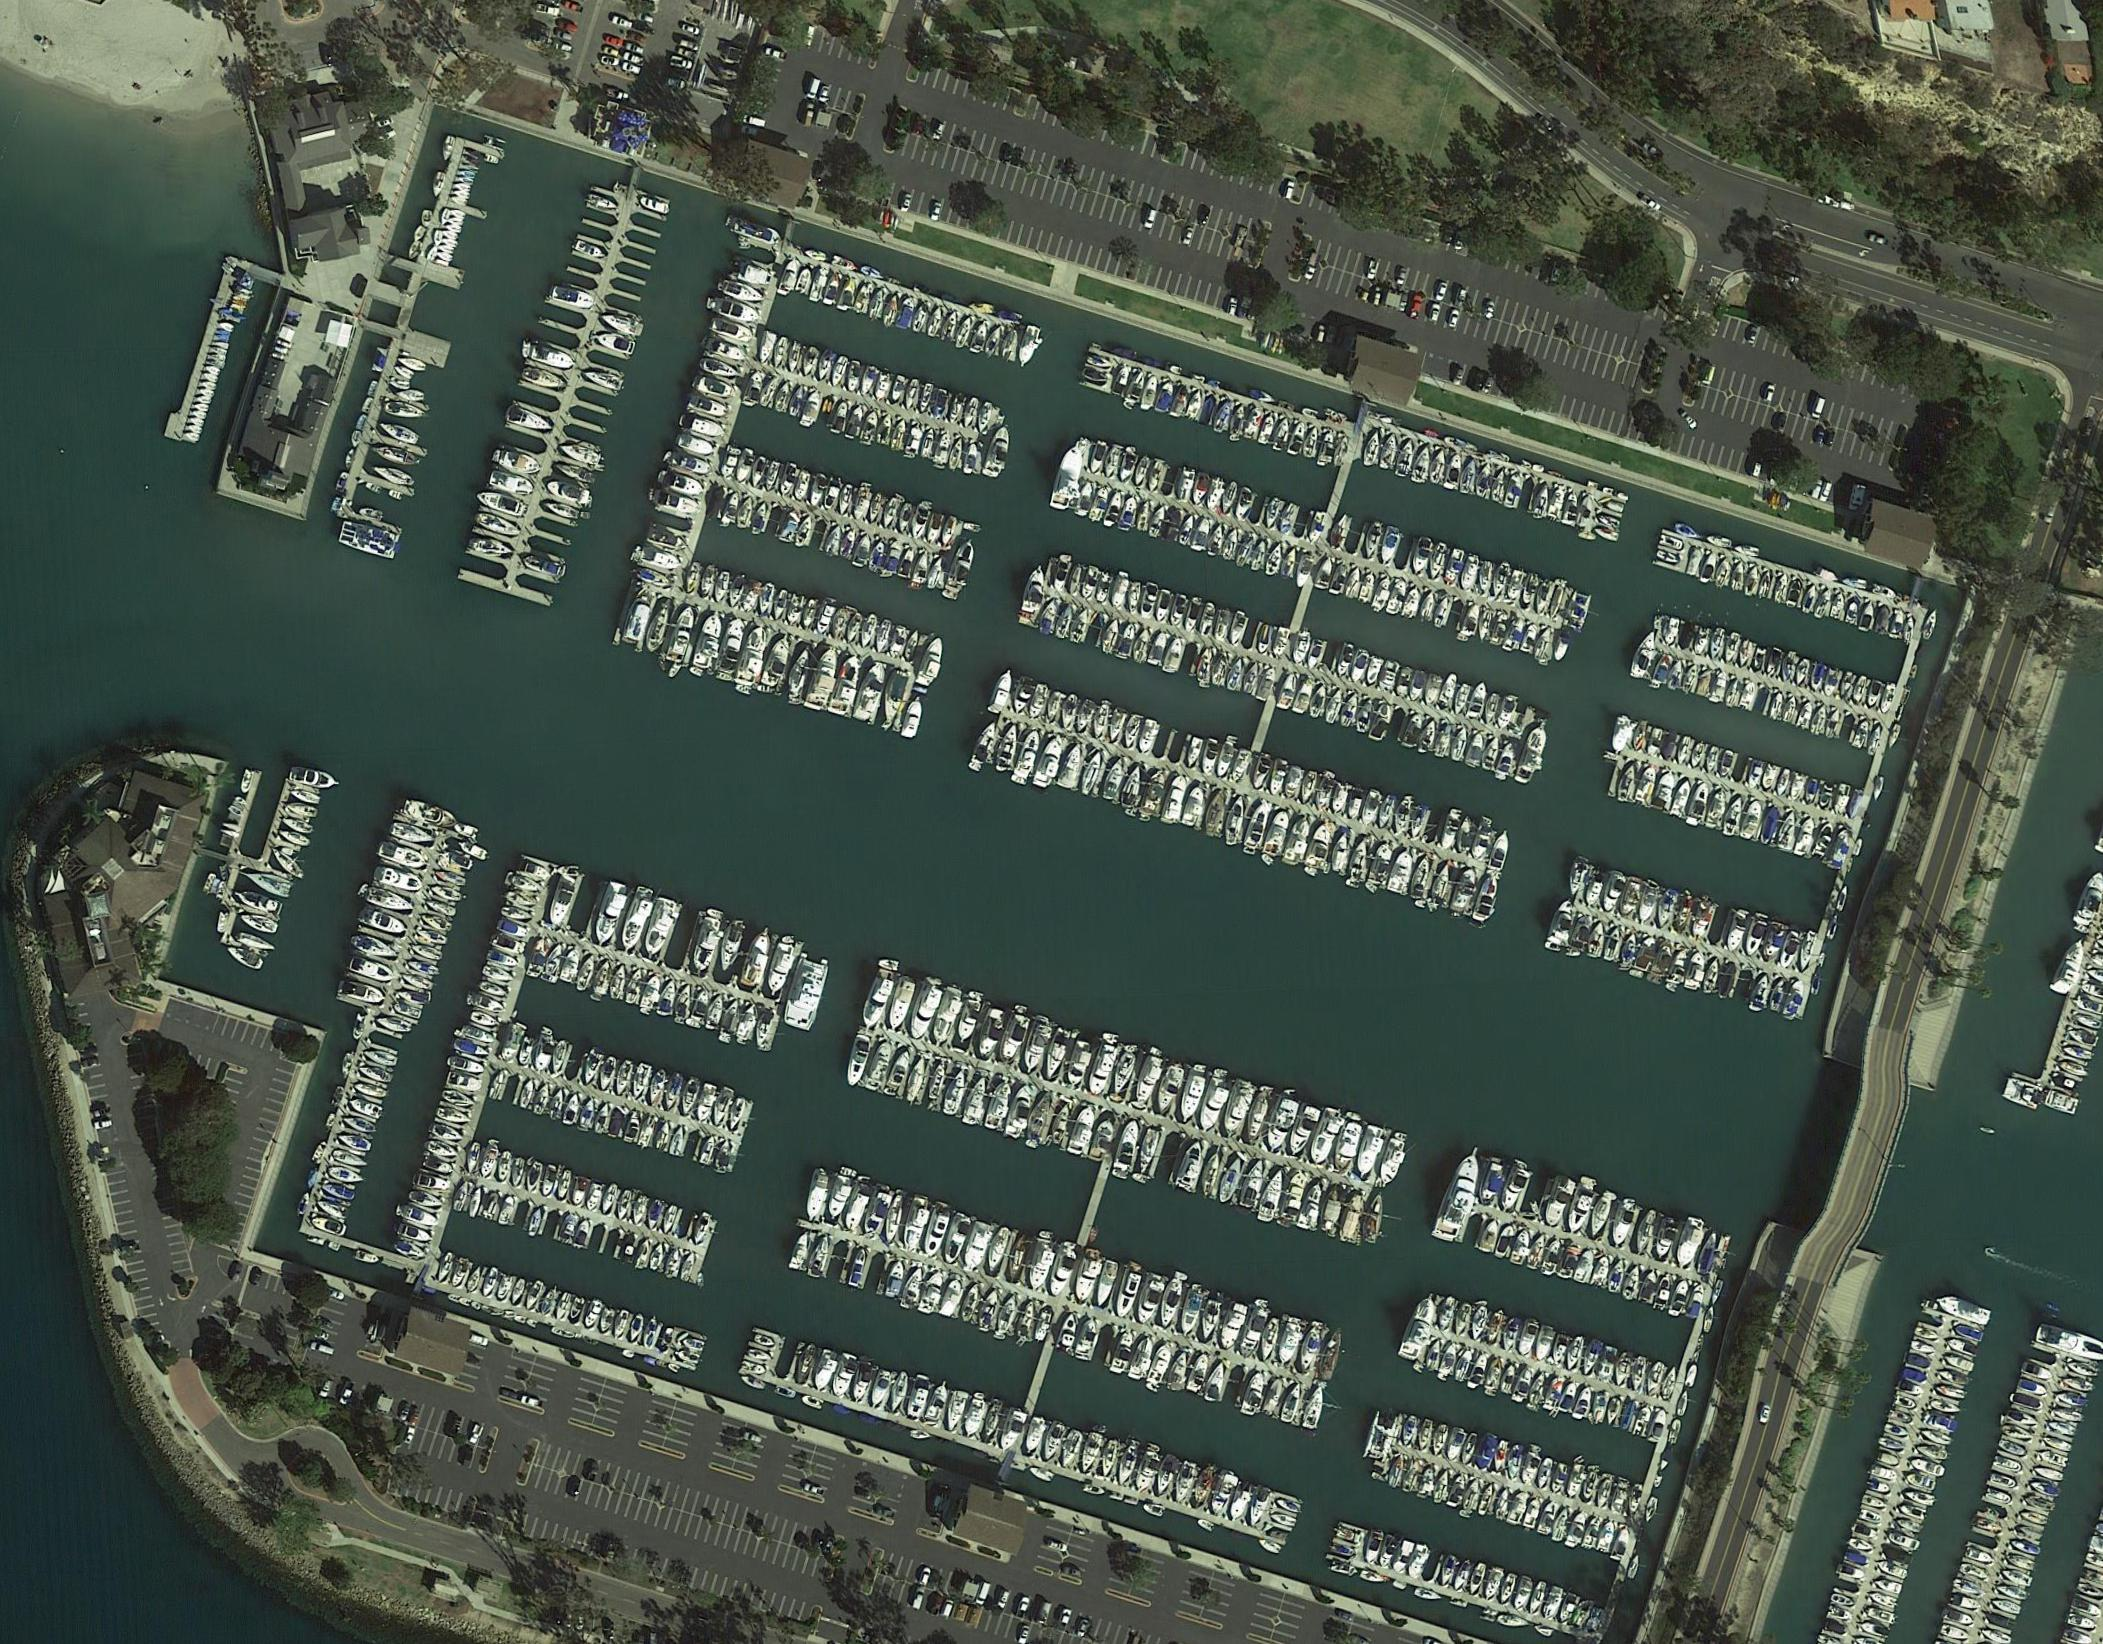harbor: (843, 968, 1408, 1250), (785, 1159, 1342, 1434), (971, 671, 1506, 922), (741, 1326, 1302, 1548), (1031, 557, 1550, 785), (1069, 440, 1576, 668), (456, 178, 679, 609), (266, 813, 480, 1239), (604, 229, 794, 659), (336, 137, 516, 536), (389, 855, 556, 1267), (1815, 1304, 1985, 1644), (526, 866, 807, 1052), (1937, 1335, 2101, 1644), (655, 562, 932, 736), (1453, 1152, 1733, 1323), (490, 1019, 756, 1176), (1412, 1296, 1680, 1448), (1374, 1408, 1639, 1562), (1560, 864, 1816, 1023), (708, 444, 970, 596), (744, 329, 1009, 476), (457, 1140, 720, 1287), (1606, 719, 1857, 867), (1325, 1519, 1605, 1644), (1079, 343, 1354, 469), (1640, 615, 1895, 749), (1355, 418, 1627, 545), (432, 1251, 707, 1373), (176, 756, 328, 961), (780, 246, 1028, 364), (1652, 529, 1912, 640), (162, 254, 283, 459)
ship: (126, 1053, 195, 1275), (1430, 1140, 1492, 1245), (778, 953, 831, 1033), (1396, 1292, 1441, 1362), (616, 886, 657, 954), (1050, 439, 1087, 512), (941, 536, 980, 603), (338, 521, 401, 562), (1514, 719, 1552, 787), (591, 879, 628, 947), (804, 645, 843, 710), (852, 661, 891, 726), (734, 623, 772, 690), (826, 654, 865, 717), (739, 924, 777, 988), (638, 900, 676, 961), (1360, 1408, 1401, 1465), (905, 983, 942, 1043), (1261, 1096, 1299, 1156), (1934, 1291, 1994, 1328), (2050, 937, 2088, 997), (714, 615, 749, 676), (1308, 1106, 1343, 1168), (1021, 1089, 1057, 1151), (913, 633, 951, 691), (857, 975, 894, 1033), (876, 668, 912, 727), (929, 987, 964, 1046), (1031, 732, 1067, 792), (691, 609, 725, 671), (1110, 1118, 1144, 1180), (760, 632, 795, 690), (1045, 1241, 1081, 1299), (1541, 896, 1577, 954), (403, 797, 463, 831), (1011, 727, 1045, 787), (982, 423, 1016, 481), (690, 917, 724, 975), (900, 1197, 934, 1255), (1070, 1248, 1104, 1306), (1255, 1168, 1289, 1226), (1151, 1062, 1186, 1116), (1142, 1340, 1178, 1395), (1328, 1120, 1364, 1175), (1285, 1105, 1321, 1159), (666, 604, 698, 664), (1021, 1014, 1053, 1074), (1277, 1169, 1309, 1229), (348, 930, 405, 965), (545, 872, 579, 929), (1238, 1304, 1272, 1361), (1673, 1216, 1707, 1272), (966, 719, 1000, 775), (1352, 1125, 1388, 1178), (727, 215, 785, 248), (1197, 1076, 1229, 1134), (1374, 1135, 1408, 1190), (1541, 1175, 1576, 1229), (1004, 1082, 1034, 1142), (714, 918, 746, 975), (1086, 1043, 1118, 1099), (884, 976, 917, 1033), (1241, 1089, 1273, 1146), (784, 644, 818, 697), (475, 487, 527, 521), (959, 1221, 993, 1274), (1065, 1105, 1099, 1157), (982, 1081, 1016, 1134), (1280, 814, 1314, 867), (990, 722, 1024, 775), (1999, 1074, 2047, 1111), (1316, 1325, 1347, 1383), (364, 884, 418, 917), (763, 942, 795, 997), (1133, 1274, 1166, 1328), (842, 1035, 874, 1089), (1159, 773, 1191, 828), (242, 866, 294, 900), (1026, 1239, 1057, 1296), (621, 592, 654, 645), (642, 603, 674, 656), (521, 364, 574, 396), (377, 840, 430, 872), (232, 886, 285, 918), (347, 954, 399, 987), (999, 1012, 1031, 1065), (975, 1007, 1007, 1060), (941, 1214, 973, 1267), (1174, 1139, 1207, 1192), (1111, 1268, 1144, 1321), (862, 1040, 894, 1093), (959, 1076, 992, 1128), (268, 843, 309, 884), (1041, 1028, 1072, 1082), (1156, 1275, 1186, 1330), (1220, 794, 1251, 848), (505, 405, 556, 437), (1132, 1055, 1164, 1106), (1217, 1301, 1250, 1352), (712, 295, 765, 326), (374, 866, 427, 896), (922, 1207, 952, 1260), (860, 1185, 891, 1238), (842, 1181, 872, 1234), (1628, 628, 1659, 681), (358, 907, 410, 937), (1209, 1468, 1239, 1519), (1220, 1082, 1251, 1134), (982, 1224, 1012, 1275), (1176, 1287, 1207, 1338), (1238, 1157, 1268, 1209), (883, 1048, 913, 1099), (1261, 807, 1292, 859), (802, 1168, 830, 1224), (1178, 1070, 1207, 1123), (1338, 1192, 1367, 1245), (1318, 1181, 1347, 1234), (917, 1268, 947, 1318), (1091, 1260, 1121, 1309), (1215, 1156, 1246, 1205), (1630, 1207, 1661, 1256), (1564, 1186, 1594, 1236), (1057, 741, 1087, 790), (1497, 1168, 1529, 1214), (1004, 1233, 1033, 1284), (497, 449, 545, 480), (545, 476, 592, 507), (1110, 1050, 1140, 1098), (898, 1265, 929, 1313), (1087, 1116, 1118, 1164), (987, 668, 1017, 715), (1448, 866, 1478, 913), (1243, 801, 1273, 848), (1360, 1192, 1388, 1245), (1560, 589, 1593, 633), (529, 345, 579, 374), (488, 469, 538, 498), (389, 819, 439, 848), (475, 510, 524, 539), (1296, 1325, 1325, 1374), (1277, 1316, 1306, 1366), (1127, 1333, 1156, 1383), (1108, 1328, 1137, 1378), (1297, 1181, 1326, 1231), (941, 1069, 970, 1118), (1471, 874, 1500, 924), (1203, 785, 1232, 835), (1304, 819, 1333, 869), (599, 309, 645, 340), (1190, 1461, 1220, 1507), (1475, 1163, 1506, 1209), (288, 767, 343, 792), (1021, 563, 1048, 615), (679, 411, 727, 440), (720, 278, 768, 307), (1301, 1385, 1330, 1432), (1255, 1316, 1284, 1364), (715, 997, 744, 1045), (1065, 1040, 1094, 1087), (954, 999, 983, 1046), (824, 1175, 853, 1222), (806, 1233, 835, 1280), (1606, 1202, 1635, 1250), (1586, 1195, 1615, 1243), (1140, 767, 1169, 814), (1388, 847, 1417, 895), (224, 942, 266, 975), (592, 328, 637, 359), (377, 417, 422, 447), (1685, 780, 1712, 830), (923, 1378, 952, 1424), (905, 1374, 934, 1420), (830, 1352, 859, 1398), (1244, 1484, 1273, 1530), (1169, 1460, 1198, 1506), (1132, 1449, 1161, 1495), (975, 1285, 1004, 1332), (498, 1019, 527, 1065), (1367, 840, 1396, 886), (558, 439, 601, 469), (881, 1193, 906, 1245), (1239, 1371, 1267, 1419), (1197, 1151, 1224, 1198), (1079, 749, 1106, 797), (1118, 765, 1145, 813), (640, 545, 684, 574), (457, 1342, 486, 1386), (999, 1410, 1028, 1455), (1164, 1350, 1193, 1395), (1760, 920, 1789, 965), (900, 695, 927, 741), (522, 553, 568, 580), (1152, 1453, 1180, 1499), (1077, 1431, 1104, 1477), (1040, 1419, 1067, 1465), (993, 1291, 1021, 1337), (1487, 826, 1514, 872), (582, 365, 625, 394), (529, 1031, 558, 1074), (1226, 1482, 1255, 1524), (654, 490, 702, 516), (341, 980, 389, 1006), (1016, 323, 1041, 370), (1135, 1128, 1161, 1176), (1695, 1231, 1721, 1279), (710, 318, 754, 345), (372, 463, 417, 490), (1279, 1379, 1306, 1424), (813, 1349, 840, 1393), (1113, 1444, 1140, 1489), (526, 936, 553, 980), (1203, 1359, 1231, 1403), (1197, 1299, 1224, 1344), (1524, 1369, 1552, 1414), (1722, 912, 1750, 956), (1613, 761, 1640, 806), (539, 942, 568, 983), (2042, 1087, 2083, 1116), (551, 287, 597, 312), (374, 442, 420, 468), (1074, 1316, 1099, 1362), (1101, 756, 1127, 802), (1408, 854, 1434, 900), (1738, 797, 1763, 843), (671, 451, 714, 478), (551, 459, 594, 487), (708, 1086, 736, 1128), (942, 1391, 970, 1434), (790, 1344, 818, 1386), (1058, 1429, 1086, 1472), (1185, 1352, 1212, 1395), (1652, 1217, 1680, 1260), (1746, 973, 1774, 1016), (1599, 871, 1627, 913), (1367, 700, 1395, 743), (698, 357, 743, 382), (647, 528, 691, 553), (1181, 784, 1207, 828), (1470, 819, 1495, 864), (1651, 768, 1676, 813), (707, 336, 748, 364), (1413, 717, 1441, 758), (939, 1279, 966, 1320), (1053, 1311, 1081, 1352), (1009, 674, 1036, 715), (1473, 1431, 1500, 1472), (888, 1369, 912, 1415), (905, 1057, 929, 1103), (688, 394, 731, 420), (799, 388, 824, 430), (678, 1076, 703, 1118), (398, 1204, 440, 1229), (1540, 1238, 1565, 1280), (1618, 876, 1644, 918), (1782, 976, 1808, 1019), (1721, 796, 1746, 838), (1704, 789, 1729, 831), (1828, 828, 1854, 871), (669, 473, 708, 500), (1425, 447, 1453, 487), (1065, 606, 1092, 645), (696, 376, 737, 401), (813, 596, 838, 637), (239, 912, 280, 937), (237, 930, 278, 956), (1226, 403, 1251, 444), (869, 1367, 894, 1408), (963, 1398, 988, 1439), (574, 953, 599, 994), (1436, 1342, 1461, 1383), (1465, 1352, 1490, 1393), (1635, 884, 1661, 925), (1565, 855, 1591, 896), (1429, 862, 1454, 903), (1775, 809, 1801, 850), (1664, 949, 1692, 987), (1796, 929, 1818, 975), (1494, 739, 1518, 782), (662, 1070, 686, 1113), (655, 976, 679, 1019), (638, 973, 662, 1016), (958, 1282, 982, 1325), (1277, 671, 1301, 714), (1412, 442, 1436, 485), (1565, 1509, 1589, 1552), (1794, 816, 1818, 859), (741, 370, 766, 410), (1014, 1299, 1040, 1338), (1290, 678, 1316, 717), (1579, 1338, 1605, 1378), (1620, 1263, 1646, 1303), (1507, 1227, 1533, 1267), (1524, 1233, 1550, 1272), (1410, 536, 1436, 575), (1441, 452, 1466, 492), (1456, 458, 1482, 497), (1651, 939, 1676, 978), (1743, 918, 1768, 958), (1634, 934, 1659, 973), (1634, 765, 1659, 804), (1466, 679, 1490, 720), (777, 258, 801, 299), (695, 1082, 719, 1123), (645, 1065, 669, 1106), (630, 1062, 654, 1103), (1022, 1415, 1046, 1456), (673, 982, 696, 1023), (446, 1070, 486, 1094), (789, 1231, 813, 1272), (1050, 1105, 1074, 1146), (1323, 686, 1347, 727), (1668, 1279, 1692, 1320), (1482, 1357, 1506, 1398), (1488, 558, 1512, 599), (1395, 439, 1419, 480), (1654, 889, 1678, 930), (1685, 951, 1709, 992), (1779, 930, 1803, 971), (1378, 526, 1401, 567), (1360, 521, 1384, 562), (678, 434, 717, 458), (637, 567, 676, 591), (855, 611, 879, 650), (1087, 485, 1111, 524), (1401, 710, 1425, 749), (732, 446, 756, 485), (1261, 1378, 1285, 1417), (580, 1048, 604, 1087), (982, 1402, 1005, 1441), (736, 1002, 760, 1041), (440, 1087, 480, 1111), (422, 1137, 461, 1161), (408, 1188, 447, 1212), (328, 1164, 367, 1188), (331, 1147, 370, 1171), (435, 1105, 475, 1128), (1518, 1318, 1541, 1357), (1533, 1325, 1557, 1364), (1511, 1364, 1535, 1403), (1494, 1222, 1518, 1262), (1500, 616, 1524, 656), (1425, 541, 1449, 580), (1690, 901, 1714, 941), (1569, 913, 1593, 953), (1115, 621, 1139, 661), (1099, 616, 1123, 656), (1038, 598, 1062, 637), (1359, 787, 1383, 826), (1669, 778, 1693, 818), (756, 374, 782, 410), (348, 1096, 384, 1122), (558, 947, 584, 983), (1574, 1248, 1599, 1284), (1459, 1477, 1485, 1513), (471, 538, 516, 558), (597, 1053, 620, 1094), (850, 1362, 872, 1403), (1098, 1439, 1120, 1480), (1362, 428, 1384, 469), (1389, 794, 1412, 835), (1758, 806, 1780, 847), (883, 538, 906, 575), (362, 1046, 399, 1070), (543, 498, 580, 522), (1480, 734, 1504, 772), (1137, 584, 1161, 621), (732, 495, 756, 533), (968, 319, 992, 357), (336, 1132, 374, 1156), (703, 994, 727, 1031), (430, 1122, 468, 1146), (311, 1214, 348, 1238), (1910, 1456, 1948, 1480), (1644, 1359, 1668, 1396), (1478, 1217, 1502, 1255), (1531, 625, 1555, 662), (1458, 555, 1482, 592), (1471, 463, 1495, 500), (1371, 575, 1395, 613), (1326, 512, 1350, 550), (1586, 920, 1610, 958), (1074, 698, 1098, 736), (1255, 666, 1279, 703), (1053, 603, 1077, 640), (1453, 816, 1477, 854), (1313, 775, 1337, 813), (1716, 963, 1739, 1000), (1541, 1584, 1565, 1622), (1407, 1543, 1430, 1581), (1391, 1538, 1415, 1576), (1400, 1458, 1424, 1495), (1384, 1453, 1408, 1490), (1429, 1468, 1453, 1506), (1550, 1506, 1574, 1543), (1232, 534, 1258, 568), (1123, 370, 1149, 405), (848, 1246, 869, 1289), (872, 616, 894, 656), (1051, 555, 1074, 594), (932, 430, 954, 469), (807, 266, 830, 306), (725, 1094, 748, 1134), (613, 1058, 635, 1098), (452, 1038, 492, 1060), (884, 1260, 906, 1299), (1564, 1333, 1586, 1373), (1606, 1256, 1628, 1296), (1028, 683, 1050, 722), (1439, 813, 1461, 852), (1504, 1443, 1526, 1482), (1565, 1461, 1587, 1501), (1536, 1497, 1558, 1536), (1610, 717, 1632, 756), (1813, 819, 1835, 859), (277, 826, 312, 850), (823, 522, 847, 558), (778, 509, 802, 545), (1338, 691, 1362, 727), (1210, 399, 1234, 435), (754, 329, 778, 365), (836, 277, 860, 312), (690, 1210, 714, 1246), (597, 1181, 621, 1217), (492, 934, 527, 958), (591, 959, 615, 995), (1506, 1490, 1529, 1526), (446, 1055, 486, 1076), (927, 1060, 947, 1101), (925, 555, 947, 592), (794, 512, 816, 550), (1116, 495, 1139, 533), (1205, 522, 1227, 560), (1263, 541, 1285, 579), (1292, 553, 1314, 591), (1316, 430, 1338, 468), (1449, 726, 1471, 763), (1079, 563, 1101, 601), (1290, 630, 1313, 668), (859, 410, 881, 447), (714, 1137, 736, 1175), (623, 968, 645, 1006), (608, 963, 630, 1000), (398, 1222, 435, 1245), (393, 1239, 430, 1262), (1308, 683, 1330, 720), (1483, 1311, 1506, 1349), (1500, 1316, 1523, 1354), (1652, 1274, 1675, 1311), (1639, 1267, 1661, 1304), (1611, 1350, 1634, 1388), (1572, 1385, 1594, 1422), (1659, 1364, 1681, 1402), (1632, 1403, 1654, 1441), (1442, 550, 1465, 587), (1378, 434, 1400, 471), (1700, 958, 1722, 995), (1386, 579, 1408, 616), (1328, 560, 1350, 598), (1601, 925, 1623, 963), (749, 500, 772, 538), (1057, 693, 1079, 731), (1089, 702, 1111, 739), (1162, 637, 1185, 674), (1198, 739, 1220, 777), (1610, 1524, 1632, 1562), (1589, 1255, 1615, 1287), (865, 539, 889, 574), (1145, 505, 1169, 539), (1306, 510, 1330, 545), (1154, 381, 1178, 415), (1915, 1441, 1949, 1465), (1453, 1349, 1477, 1383), (2055, 1388, 2089, 1412), (2065, 1357, 2100, 1381), (1459, 603, 1483, 637), (1529, 487, 1553, 521), (1449, 681, 1473, 715), (2057, 1057, 2091, 1081), (1446, 1473, 1470, 1507), (1103, 490, 1123, 529), (1139, 374, 1159, 413), (741, 579, 763, 615), (725, 575, 748, 611), (696, 563, 719, 599), (852, 533, 874, 568), (828, 604, 850, 640), (901, 627, 923, 662), (341, 1113, 377, 1135), (358, 1064, 394, 1086), (399, 970, 435, 992), (1087, 440, 1110, 476), (1074, 481, 1096, 517), (1285, 422, 1308, 458), (1232, 487, 1255, 522), (1437, 669, 1459, 705), (1465, 732, 1487, 768), (1432, 724, 1454, 760), (1355, 698, 1378, 734), (1349, 649, 1371, 685), (1110, 574, 1132, 609), (1168, 592, 1190, 628), (1227, 611, 1250, 647), (1333, 642, 1355, 678), (785, 382, 807, 418), (830, 399, 852, 435), (843, 405, 865, 440), (807, 473, 830, 509), (952, 316, 975, 352), (522, 1159, 545, 1195), (435, 1250, 457, 1285), (604, 1105, 626, 1140), (531, 1082, 553, 1118), (690, 988, 712, 1024), (319, 1181, 355, 1204), (495, 918, 531, 941), (486, 949, 522, 971), (481, 965, 517, 987), (471, 994, 507, 1016), (463, 1024, 498, 1046), (1929, 1396, 1965, 1419), (1436, 1296, 1458, 1332), (1647, 1408, 1669, 1444), (1488, 611, 1511, 647), (1488, 468, 1511, 504), (1618, 930, 1640, 966), (1137, 719, 1159, 755), (1210, 650, 1232, 686), (1147, 632, 1169, 668), (1132, 627, 1154, 662), (1250, 755, 1272, 790), (1267, 761, 1289, 797), (1297, 770, 1319, 806), (1483, 1565, 1506, 1601), (1466, 1560, 1488, 1596), (1429, 1424, 1451, 1460), (1444, 1427, 1466, 1463), (1362, 1530, 1384, 1565), (1490, 1485, 1512, 1521), (1705, 627, 1727, 662), (457, 838, 488, 864), (720, 492, 744, 524), (2001, 1565, 2033, 1589), (1378, 659, 1401, 691), (376, 1014, 413, 1035), (386, 401, 427, 420), (1183, 596, 1203, 633), (550, 1038, 570, 1076), (753, 1011, 773, 1048), (1453, 1301, 1473, 1338), (1470, 1304, 1490, 1342), (1685, 1282, 1705, 1320), (1543, 1374, 1564, 1412), (1560, 490, 1581, 528), (1673, 896, 1693, 934), (1376, 794, 1396, 831), (1528, 1579, 1548, 1617), (1417, 1465, 1437, 1502), (1709, 669, 1729, 707), (574, 239, 608, 261), (638, 195, 673, 217), (434, 867, 468, 889), (280, 814, 314, 837), (420, 912, 454, 934), (410, 942, 444, 965), (1191, 517, 1214, 551), (1101, 446, 1123, 480), (1116, 451, 1139, 485), (1261, 497, 1284, 531), (1203, 478, 1226, 512), (1174, 466, 1197, 500), (1495, 697, 1518, 731), (1407, 669, 1429, 703), (1169, 386, 1191, 420), (719, 446, 741, 480), (896, 295, 918, 329), (939, 309, 961, 343), (662, 1246, 684, 1280), (609, 1308, 632, 1342), (451, 1180, 473, 1214), (621, 1111, 644, 1146), (478, 1146, 500, 1180), (463, 1140, 485, 1175), (1920, 1425, 1954, 1448), (1888, 1531, 1922, 1554), (2001, 1422, 2035, 1444), (1596, 1345, 1618, 1379), (1557, 1379, 1579, 1414), (1506, 568, 1528, 603), (1314, 557, 1337, 591), (1226, 657, 1248, 691), (1229, 749, 1251, 784), (1437, 1554, 1459, 1588), (1453, 1559, 1475, 1593), (1519, 1453, 1541, 1487), (1535, 1456, 1557, 1490), (888, 625, 908, 661), (712, 568, 732, 604), (683, 560, 703, 596), (912, 550, 932, 586), (1272, 417, 1292, 452), (1301, 425, 1321, 461), (1219, 480, 1239, 516), (1422, 673, 1442, 708), (1152, 587, 1173, 623), (905, 422, 925, 458), (975, 399, 995, 435), (959, 394, 980, 430), (910, 505, 930, 541), (925, 304, 946, 340), (637, 1115, 657, 1151), (562, 1093, 582, 1128), (417, 1173, 452, 1193), (505, 889, 541, 910), (1033, 1308, 1053, 1344), (1628, 1355, 1649, 1391), (1582, 877, 1606, 908), (778, 463, 799, 498), (1215, 743, 1236, 778), (1408, 804, 1429, 840), (1514, 1576, 1535, 1612), (1349, 840, 1366, 883), (430, 883, 463, 905), (442, 850, 475, 872), (983, 324, 1005, 357), (582, 1297, 604, 1330), (480, 1267, 502, 1299), (316, 1198, 348, 1221), (1905, 1472, 1937, 1494), (1997, 1437, 2030, 1460), (1424, 1338, 1446, 1371), (2038, 1448, 2071, 1470), (1994, 1581, 2026, 1603), (1990, 1596, 2023, 1618), (2052, 1403, 2084, 1425), (1430, 596, 1453, 628), (1401, 586, 1424, 618), (1342, 567, 1364, 599), (2067, 1026, 2100, 1048), (1664, 661, 1686, 693), (1850, 719, 1873, 751), (585, 193, 620, 213), (785, 592, 806, 627), (843, 611, 864, 645), (1220, 528, 1241, 562), (1243, 406, 1263, 440), (1256, 413, 1277, 447), (1277, 502, 1297, 536), (1065, 565, 1086, 599), (1198, 603, 1219, 637), (889, 417, 910, 451), (901, 377, 922, 411), (773, 381, 794, 415), (939, 516, 959, 550), (881, 295, 901, 329), (633, 1238, 654, 1272), (555, 1168, 575, 1202), (524, 1279, 545, 1313), (698, 1134, 719, 1168), (517, 1077, 538, 1111), (422, 1156, 456, 1176), (1924, 1412, 1958, 1432), (2007, 1408, 2042, 1429), (2009, 1391, 2043, 1412), (2021, 1362, 2055, 1383), (1499, 1362, 1519, 1396), (1547, 487, 1567, 521), (1106, 708, 1127, 743), (1121, 715, 1142, 749), (749, 456, 770, 490), (1241, 661, 1261, 695), (876, 411, 896, 446), (1331, 831, 1349, 872), (1282, 767, 1302, 801), (1857, 599, 1878, 633), (1920, 608, 1941, 642), (1415, 1419, 1436, 1453), (1400, 1414, 1420, 1448), (1550, 1461, 1570, 1495), (1594, 1477, 1615, 1511), (1378, 1535, 1398, 1569), (1523, 1495, 1543, 1530), (1698, 551, 1719, 586), (1878, 681, 1898, 715), (1722, 632, 1743, 666), (1176, 516, 1198, 546), (1110, 365, 1132, 396), (556, 1214, 579, 1245), (1878, 1559, 1908, 1581), (2030, 1477, 2060, 1499), (1652, 654, 1675, 685), (1482, 691, 1500, 727), (947, 437, 966, 473), (823, 271, 842, 307), (645, 1197, 664, 1233), (548, 1087, 567, 1123), (510, 876, 546, 895), (1504, 473, 1523, 509), (1768, 976, 1787, 1012), (1459, 1431, 1478, 1466), (1477, 1482, 1495, 1518), (1197, 649, 1214, 688), (896, 546, 917, 579), (425, 898, 457, 918), (290, 787, 323, 807), (1280, 546, 1301, 579), (1272, 627, 1292, 659), (792, 469, 813, 502), (799, 345, 819, 377), (853, 282, 874, 314), (572, 1217, 592, 1250), (647, 1241, 667, 1274), (678, 1251, 698, 1284), (630, 1193, 650, 1226), (626, 1311, 647, 1344), (654, 1120, 674, 1152), (592, 1103, 613, 1135), (516, 1035, 536, 1067), (478, 980, 510, 1000), (1903, 1487, 1936, 1507), (1946, 1337, 1978, 1357), (2033, 1465, 2065, 1485), (2023, 1492, 2055, 1513), (2004, 1552, 2036, 1572), (2062, 1374, 2094, 1395), (1552, 630, 1572, 662), (1531, 584, 1552, 616), (1359, 572, 1379, 604), (1043, 691, 1063, 724), (930, 388, 951, 420), (2062, 1043, 2094, 1064), (1490, 1441, 1511, 1473), (1610, 1482, 1630, 1514), (1596, 1521, 1617, 1554), (1646, 727, 1666, 760), (1630, 719, 1651, 751), (1832, 784, 1852, 816), (1809, 702, 1830, 734), (481, 1192, 504, 1221), (1745, 760, 1767, 789), (772, 587, 790, 621), (285, 801, 319, 819), (1250, 539, 1268, 574), (763, 459, 782, 493), (881, 497, 900, 531), (830, 355, 848, 389), (772, 336, 790, 370), (999, 328, 1017, 362), (912, 300, 930, 335), (539, 1164, 558, 1198), (667, 1123, 686, 1157), (469, 1011, 504, 1029), (1475, 609, 1494, 644), (1547, 586, 1565, 620), (1419, 591, 1437, 625), (1185, 736, 1203, 770), (836, 483, 855, 517), (852, 487, 871, 521), (1627, 1482, 1646, 1516), (1813, 587, 1832, 621), (1582, 1514, 1601, 1548), (1780, 649, 1799, 683), (1866, 724, 1885, 758), (393, 1000, 423, 1021), (838, 528, 859, 558), (1185, 389, 1205, 420), (867, 289, 888, 319), (553, 1291, 574, 1321), (579, 1098, 599, 1128), (1960, 1562, 1990, 1583), (1866, 1605, 1896, 1625), (1966, 1547, 1997, 1567), (1618, 1400, 1639, 1431), (2043, 1434, 2074, 1455), (1765, 647, 1786, 678), (1330, 784, 1350, 814), (2072, 1012, 2103, 1033), (1799, 584, 1820, 615), (1722, 679, 1743, 710), (644, 1315, 661, 1350), (1743, 563, 1760, 599), (417, 927, 449, 946), (1306, 638, 1325, 671), (947, 394, 966, 427), (823, 478, 842, 510), (925, 512, 944, 545), (859, 365, 877, 398), (661, 1204, 679, 1236), (615, 1188, 633, 1221), (585, 1181, 604, 1214), (526, 1207, 545, 1239), (451, 1256, 469, 1289), (488, 1070, 507, 1103), (1953, 1577, 1985, 1596), (1941, 1624, 1973, 1642), (1326, 1559, 1359, 1577), (1477, 560, 1495, 592), (917, 382, 935, 415), (1558, 1593, 1577, 1625), (1499, 1572, 1518, 1605), (1675, 734, 1693, 767), (872, 372, 893, 401), (1954, 1323, 1984, 1344), (1946, 1608, 1975, 1629), (1519, 625, 1540, 654), (1792, 657, 1813, 686), (353, 1082, 387, 1099), (963, 442, 980, 476), (867, 492, 884, 526), (896, 500, 913, 534), (468, 1186, 485, 1221), (500, 907, 534, 924), (1497, 1613, 1531, 1630), (1714, 557, 1731, 591), (1681, 662, 1698, 697), (1825, 707, 1842, 741), (801, 599, 819, 630), (1132, 456, 1151, 487), (1395, 668, 1413, 698), (1094, 574, 1113, 604), (1214, 611, 1232, 642), (1198, 396, 1217, 427), (814, 352, 833, 382), (1248, 388, 1279, 406), (539, 1287, 558, 1318), (1268, 1511, 1299, 1530), (524, 864, 555, 883), (1936, 1383, 1966, 1402), (1937, 1367, 1968, 1386), (1994, 1456, 2024, 1475), (2018, 1379, 2048, 1398), (1944, 1354, 1975, 1373), (1876, 1436, 1907, 1455), (1605, 1396, 1623, 1427), (1550, 1335, 1569, 1366), (2047, 1419, 2077, 1437), (2011, 1538, 2042, 1557), (1581, 1472, 1599, 1502), (1774, 767, 1792, 797), (1847, 789, 1866, 819), (1663, 616, 1681, 647), (1692, 627, 1710, 657), (1673, 522, 1704, 541), (452, 819, 480, 840), (831, 254, 859, 275), (406, 959, 439, 976), (922, 427, 939, 459), (785, 341, 802, 374), (498, 1195, 516, 1227), (510, 1156, 527, 1188), (497, 1151, 514, 1183), (1835, 1564, 1867, 1581), (439, 133, 457, 162), (794, 266, 813, 295), (1081, 367, 1110, 386), (859, 265, 888, 283), (572, 1178, 591, 1207), (509, 1277, 527, 1306), (466, 1263, 485, 1292), (739, 1374, 768, 1393), (1028, 1465, 1057, 1484), (1898, 1502, 1927, 1521), (1895, 1516, 1924, 1535), (1902, 1367, 1931, 1386), (1874, 1577, 1903, 1596), (1867, 1589, 1896, 1608), (1850, 1523, 1879, 1542), (1871, 1465, 1900, 1484), (2019, 1507, 2048, 1526), (1593, 526, 1622, 545), (1642, 1495, 1661, 1524), (1828, 592, 1847, 621), (1359, 1569, 1388, 1588), (1717, 749, 1736, 778), (1852, 674, 1871, 703), (1738, 681, 1756, 710), (1767, 691, 1786, 720), (1780, 695, 1799, 724), (1797, 700, 1816, 729), (1366, 656, 1383, 686), (1859, 1620, 1890, 1637), (1953, 1594, 1984, 1612), (309, 1140, 329, 1166), (1774, 574, 1791, 604), (1874, 604, 1891, 635), (1729, 562, 1746, 592), (597, 1308, 616, 1335), (1256, 1536, 1284, 1555), (1898, 1379, 1925, 1398), (1910, 1338, 1937, 1357), (1849, 1536, 1876, 1555), (1335, 1526, 1362, 1545), (1688, 743, 1707, 770), (1137, 500, 1152, 533), (398, 355, 427, 372), (430, 171, 447, 200), (1256, 627, 1273, 656), (1086, 353, 1115, 370), (1883, 1424, 1912, 1441), (1977, 1518, 2006, 1535), (1521, 577, 1538, 606), (1675, 1390, 1692, 1419), (1413, 1588, 1442, 1605), (1786, 579, 1803, 608), (1890, 609, 1907, 638), (1756, 570, 1774, 599), (1762, 761, 1779, 790), (1838, 669, 1855, 698), (1821, 669, 1838, 698), (1809, 664, 1826, 693), (1705, 533, 1734, 550), (1686, 548, 1704, 577), (1866, 679, 1883, 708), (1886, 722, 1903, 751), (1697, 668, 1714, 697), (1738, 640, 1755, 669), (2018, 1523, 2043, 1542), (1787, 777, 1806, 802), (239, 768, 256, 796), (889, 376, 906, 403), (674, 1349, 702, 1366), (1275, 1497, 1302, 1514), (741, 1361, 768, 1378), (1985, 1489, 2013, 1506), (1990, 1473, 2018, 1490), (1914, 1326, 1941, 1344), (1826, 1606, 1854, 1624), (1844, 1550, 1871, 1567), (1862, 1494, 1890, 1511), (1704, 746, 1721, 773), (1825, 913, 1842, 941), (1803, 778, 1820, 806), (1734, 541, 1762, 558), (1142, 1501, 1166, 1519), (1710, 1279, 1726, 1308), (1835, 884, 1850, 913), (1127, 582, 1140, 615), (847, 360, 860, 393), (358, 505, 384, 522), (497, 1275, 514, 1301), (355, 1250, 381, 1267), (1907, 1354, 1932, 1371), (1888, 1408, 1914, 1425), (1859, 1509, 1885, 1526), (1876, 1451, 1902, 1468), (1873, 584, 1898, 601), (1659, 534, 1685, 551), (352, 1014, 367, 1041), (398, 990, 428, 1004), (1830, 1593, 1857, 1608), (1347, 792, 1362, 819), (1685, 1362, 1700, 1390), (1627, 1554, 1642, 1581), (406, 239, 423, 263), (659, 1326, 676, 1350), (568, 1297, 585, 1321), (683, 1337, 707, 1354), (295, 1192, 312, 1216), (801, 1395, 824, 1412), (773, 1385, 797, 1402), (1895, 1395, 1919, 1412), (1598, 512, 1622, 529), (1816, 567, 1840, 584), (340, 1052, 355, 1077), (748, 1349, 773, 1364), (1082, 1484, 1108, 1499), (1668, 1419, 1683, 1444), (1845, 601, 1861, 627), (1331, 1543, 1357, 1559), (1842, 575, 1867, 591), (1656, 550, 1681, 565), (393, 364, 415, 381), (1869, 1478, 1891, 1495), (335, 471, 352, 493), (1750, 647, 1767, 669), (804, 248, 828, 263), (753, 1333, 777, 1349), (1818, 785, 1833, 809), (329, 1086, 347, 1106), (1871, 777, 1885, 802), (396, 389, 425, 401), (1704, 1304, 1716, 1333), (1268, 1528, 1290, 1543), (343, 447, 357, 471), (1197, 1518, 1215, 1535), (447, 205, 468, 220), (970, 302, 995, 314), (997, 311, 1022, 323), (877, 958, 900, 971), (306, 1169, 319, 1192), (447, 195, 469, 208), (1535, 1624, 1557, 1637), (1852, 837, 1866, 859), (666, 662, 683, 679), (1260, 850, 1277, 867), (364, 481, 382, 497), (360, 396, 376, 415), (411, 225, 427, 244), (225, 802, 244, 818), (365, 381, 381, 399), (353, 415, 369, 434), (215, 883, 230, 901), (350, 430, 364, 451), (1449, 1594, 1470, 1608), (1903, 616, 1914, 644), (203, 872, 215, 895), (459, 162, 481, 174), (208, 340, 230, 352), (218, 319, 236, 335), (963, 521, 982, 534), (329, 497, 343, 516), (857, 1412, 876, 1425), (1101, 1029, 1120, 1043), (1130, 1171, 1149, 1185), (439, 207, 452, 225), (437, 249, 456, 263), (1606, 500, 1625, 514), (198, 386, 217, 399), (184, 423, 205, 435), (910, 1431, 934, 1441), (451, 189, 471, 201), (457, 167, 478, 179), (481, 154, 502, 166), (205, 359, 225, 370), (207, 352, 227, 364), (831, 1403, 852, 1415), (217, 913, 229, 934), (427, 244, 439, 265), (1809, 975, 1821, 995), (387, 488, 405, 502), (205, 364, 222, 377), (1302, 866, 1319, 879), (1362, 883, 1379, 896), (357, 883, 370, 900), (1815, 953, 1828, 970), (1212, 1065, 1229, 1079), (440, 236, 457, 249), (207, 347, 229, 357), (422, 210, 434, 229), (183, 430, 201, 442), (188, 417, 207, 428), (201, 372, 220, 384), (1343, 879, 1362, 891), (454, 181, 473, 193), (218, 864, 230, 883), (1603, 749, 1622, 761), (195, 401, 210, 415), (1108, 1489, 1123, 1502), (736, 685, 753, 697), (196, 394, 213, 406), (191, 410, 208, 422), (201, 381, 218, 393), (1302, 406, 1319, 418), (1255, 1297, 1272, 1309), (522, 340, 533, 359), (213, 335, 232, 345), (389, 381, 411, 389), (688, 666, 703, 678), (1169, 364, 1185, 376), (447, 1292, 463, 1304), (459, 1296, 475, 1308), (551, 1326, 567, 1338), (1647, 679, 1663, 691), (1087, 1227, 1099, 1243), (1652, 1473, 1664, 1489), (442, 229, 457, 241), (456, 176, 476, 184), (1458, 1509, 1475, 1519), (1123, 1495, 1140, 1506), (446, 224, 463, 234), (434, 230, 444, 248), (717, 673, 732, 683), (1908, 666, 1919, 681), (447, 217, 464, 225), (469, 1299, 481, 1311), (480, 1303, 492, 1315), (490, 1308, 504, 1318), (514, 1315, 527, 1325), (526, 1320, 539, 1330), (440, 246, 456, 254), (504, 1311, 516, 1320)
